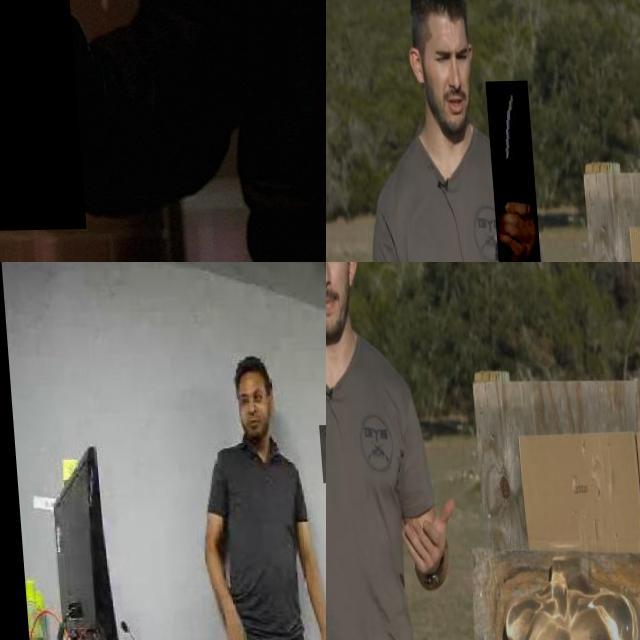-: (483, 82, 535, 262), (326, 462, 349, 533), (315, 425, 326, 484)
gun-knife-thesis - v11 Yolov5 augmented: (0, 0, 111, 233)
